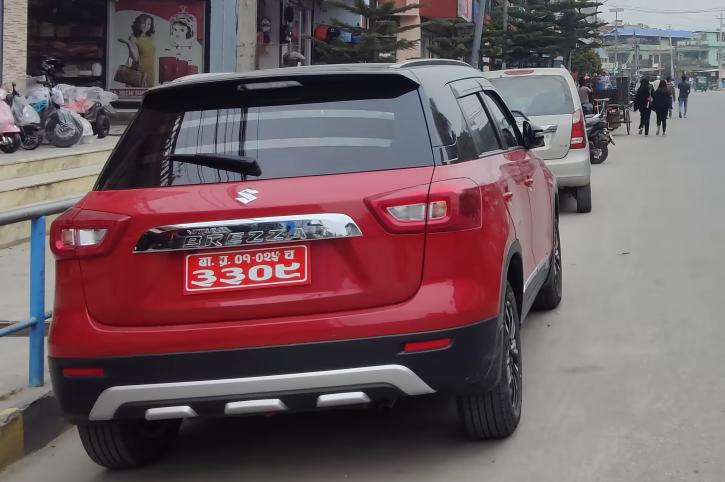car: (48, 55, 566, 460), (480, 65, 593, 221)
